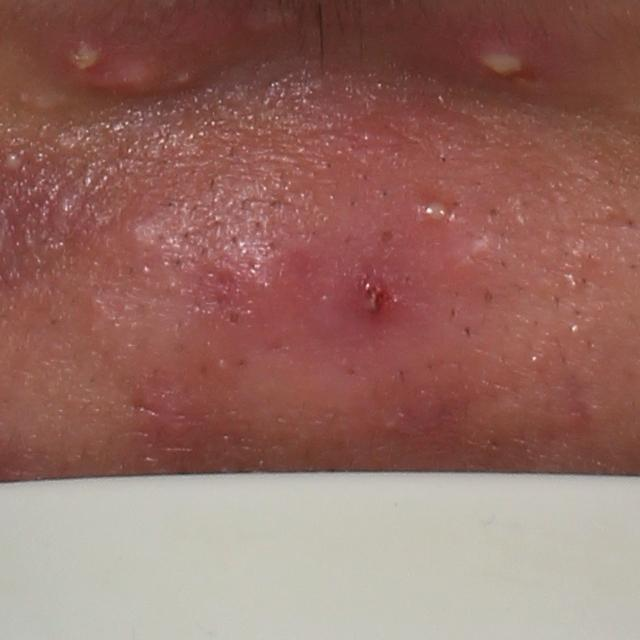hypertrophic_scar: (27, 92, 68, 116)
papule: (101, 47, 160, 106), (117, 210, 167, 262), (353, 272, 394, 323)
pustule: (424, 19, 560, 101), (66, 35, 104, 78), (417, 196, 452, 228), (170, 66, 194, 88)
